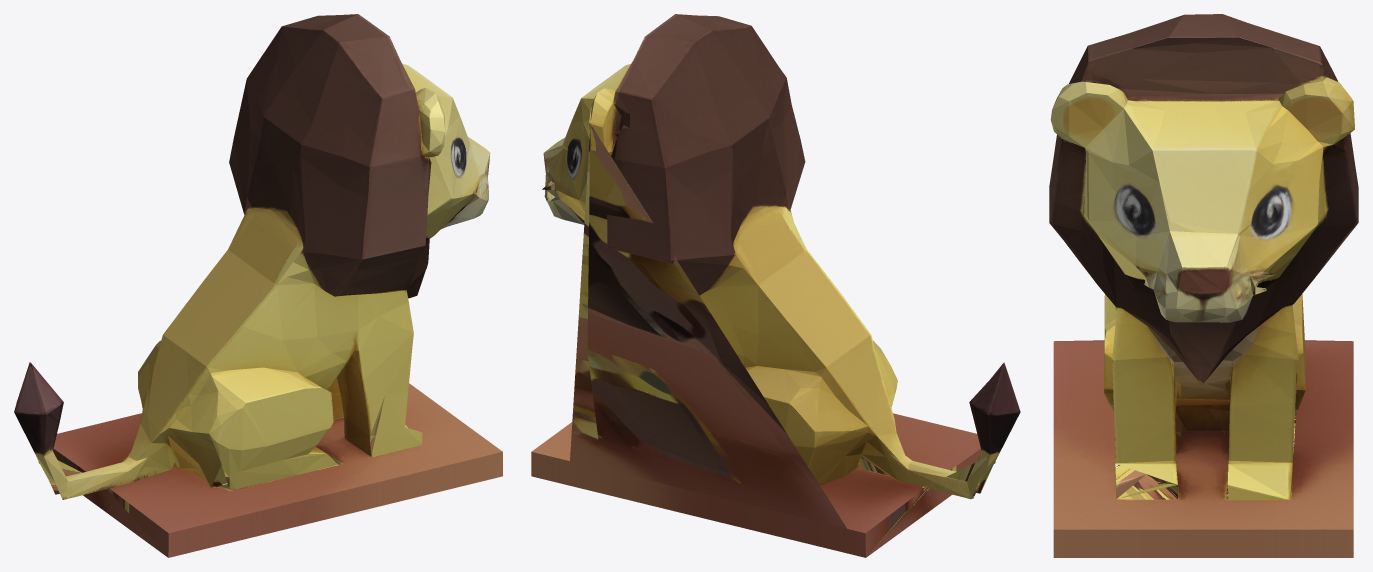
Rendered from model-pick-3.glb.
The picture shows the model from 3 angles, left to right: view 1: azimuth 30°, elevation 25°; view 2: azimuth 150°, elevation 25°; view 3: azimuth 270°, elevation 25°; orthographic projection. The views are drawn at different scales.
Parts seen in each view (by area): view 1: geometry_0; view 2: geometry_0; view 3: geometry_0.
Part boxes in pixels (<box>): geometry_0: <box>14,14,502,557</box>; geometry_0: <box>531,14,1020,557</box>; geometry_0: <box>1049,14,1358,557</box>.
Bounding box in the file's own units: 0.598 × 0.512 × 0.2967.
1 material, 1 textured.
